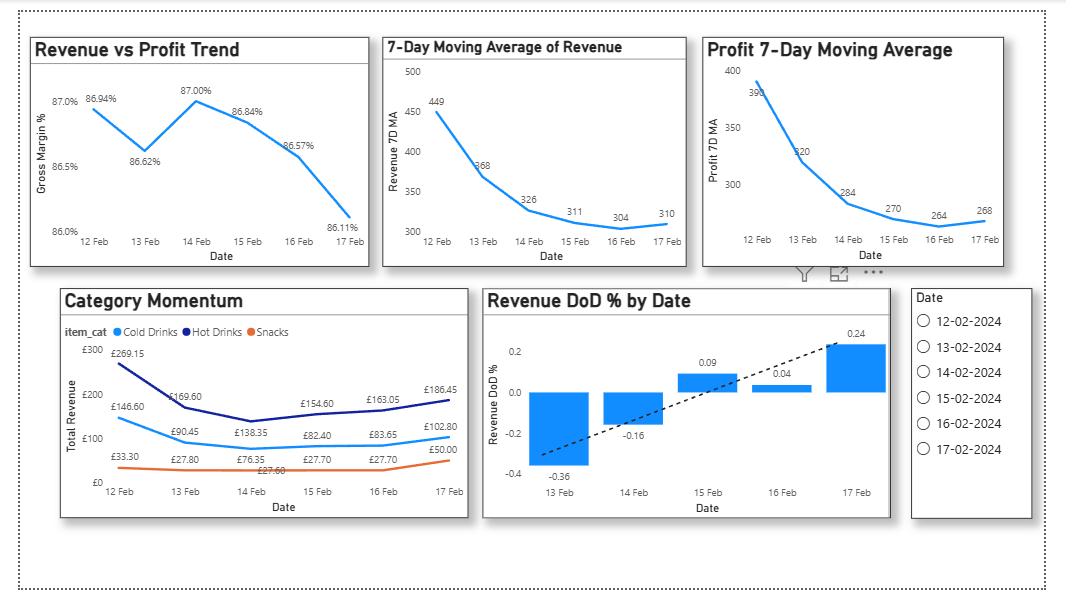

Layout of this report page (visuals, bound fields, positions):
{"tool":"powerbi","page":{"name":"Trends & Momentum","canvas":[1280,720],"ordinal":1},"visuals":[{"type":"lineChart","title":"Revenue vs Profit Trend","fields":{"Category":["Calendar.Date"],"Y":["_Measures.Gross Margin %"]},"box":[12.8,31.3,423.8,287.3],"z":0},{"type":"lineChart","title":"7-Day Moving Average of Revenue","fields":{"Category":["Calendar.Date"],"Y":["_Measures.Revenue 7D MA"]},"box":[453.7,31.3,379.7,287.3],"z":1000},{"type":"lineChart","title":"Category Momentum","fields":{"Category":["Calendar.Date"],"Y":["_Measures.Total Revenue"],"Series":["DimItem.item_cat"]},"box":[49.8,345.6,510.6,287.3],"z":2000},{"type":"clusteredColumnChart","fields":{"Category":["Calendar.Date"],"Y":["_Measures.Revenue DoD %"]},"box":[577.4,345.6,510.6,287.3],"z":3000},{"type":"lineChart","title":"Profit 7-Day Moving Average","fields":{"Category":["Calendar.Date"],"Y":["_Measures.Profit 7D MA"]},"box":[853.3,31.3,376.9,287.3],"z":4000},{"type":"listSlicer","fields":{"Values":["Calendar.Date"]},"box":[1114.1,345.3,151.3,288.3],"z":5000}]}

Visuals, with their boxes in screenshot pixels (x1, y1, x2, y2), scaled from the page's 1280x720 canvas onto the 1066x613 screenshot:
"Revenue vs Profit Trend" lineChart: box(11, 27, 364, 271)
"7-Day Moving Average of Revenue" lineChart: box(378, 27, 694, 271)
"Category Momentum" lineChart: box(41, 294, 467, 539)
clusteredColumnChart - Calendar.Date x _Measures.Revenue DoD %: box(481, 294, 906, 539)
"Profit 7-Day Moving Average" lineChart: box(711, 27, 1025, 271)
listSlicer - Calendar.Date: box(928, 294, 1054, 539)
